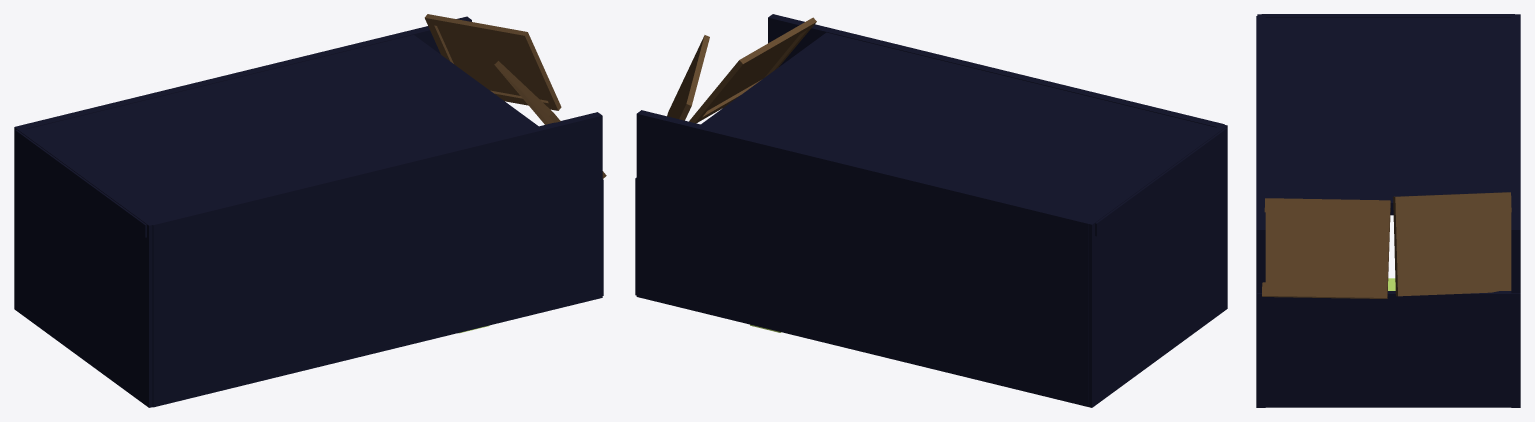
Rendered from PoraoInterior.fbx.
3 renders of one model, left to right at view 1: azimuth 30°, elevation 25°; view 2: azimuth 150°, elevation 25°; view 3: azimuth 270°, elevation 25°, orthographic. The views are drawn at different scales.
Visible parts, largest first — view 1: Cube, Cubo.002, Cube.002, Cubo.003, Cube.001, Cubo.001; view 2: Cube.001, Cubo.002, Cube.002, Cube, Cubo.001, Cubo.003; view 3: Cubo.002, Cube.003, Cubo.001, Cubo.003, Cube, Cube.001, Cube.002.
Part boxes in pixels (x1,y1,x2,y2): Cube: [149, 112, 602, 407]; Cubo.002: [15, 35, 538, 237]; Cube.002: [14, 125, 152, 407]; Cubo.003: [424, 14, 561, 110]; Cube.001: [18, 16, 471, 129]; Cubo.001: [494, 61, 606, 178]; Cube.001: [636, 110, 1092, 406]; Cubo.002: [701, 32, 1227, 236]; Cube.002: [1088, 124, 1227, 407]; Cube: [768, 14, 1224, 127]; Cubo.001: [689, 17, 816, 123]; Cubo.003: [667, 35, 709, 120]; Cubo.002: [1262, 14, 1514, 215]; Cube.003: [1257, 291, 1520, 407]; Cubo.001: [1262, 198, 1390, 298]; Cubo.003: [1393, 192, 1511, 296]; Cube: [1256, 16, 1265, 407]; Cube.001: [1511, 16, 1520, 407]; Cube.002: [1257, 14, 1520, 17].
Size of the model in its own units: 1270 by 542 by 613.
